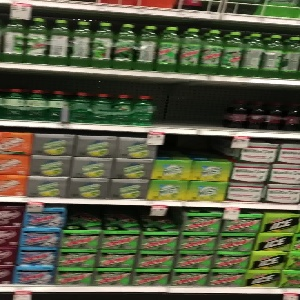void: (153, 84, 229, 127)
